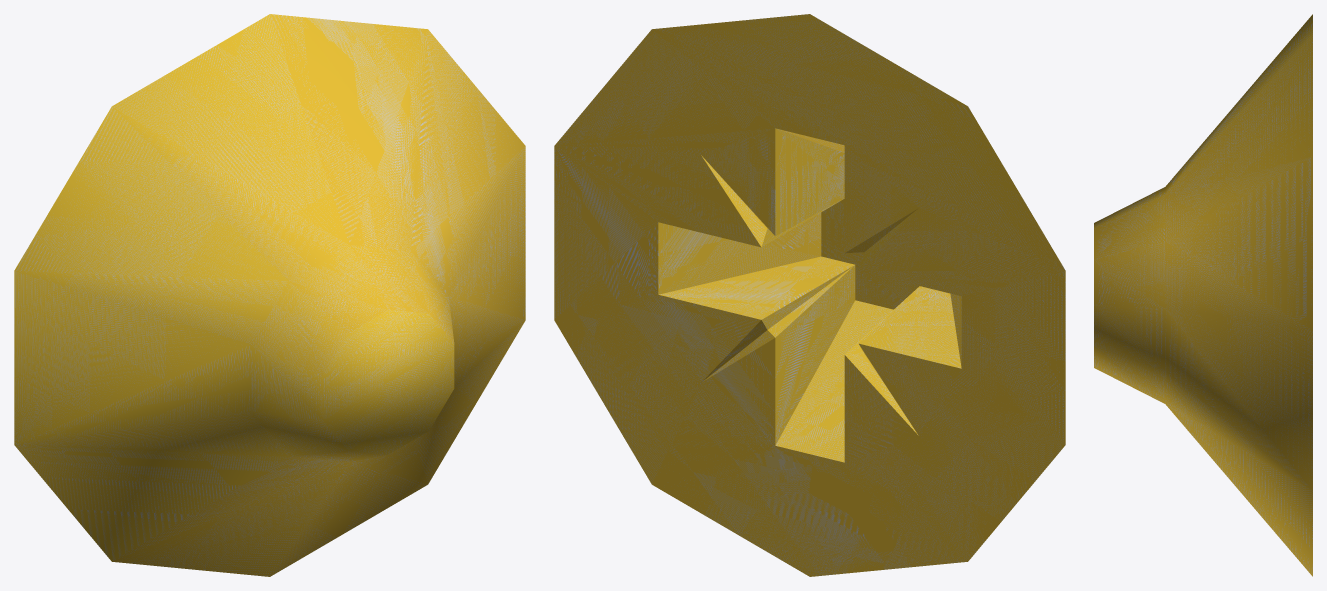
Rendered from original-150.obj.
The picture shows the model from 3 angles, left to right: view 1: azimuth 30°, elevation 25°; view 2: azimuth 150°, elevation 25°; view 3: azimuth 270°, elevation 25°; orthographic projection. The views are drawn at different scales.
Visible parts, largest first — view 1: Group111/mesh183/mesh183-geometry#mesh183-geometry; view 2: Group111/mesh183/mesh183-geometry#mesh183-geometry; view 3: Group111/mesh183/mesh183-geometry#mesh183-geometry.
Part boxes in pixels (bbox=[...]): Group111/mesh183/mesh183-geometry#mesh183-geometry: bbox=[14, 14, 525, 576]; Group111/mesh183/mesh183-geometry#mesh183-geometry: bbox=[554, 14, 1065, 576]; Group111/mesh183/mesh183-geometry#mesh183-geometry: bbox=[1094, 14, 1312, 576].
Bounding box in the file's own units: 0.0187 × 0.0197 × 0.00751.
